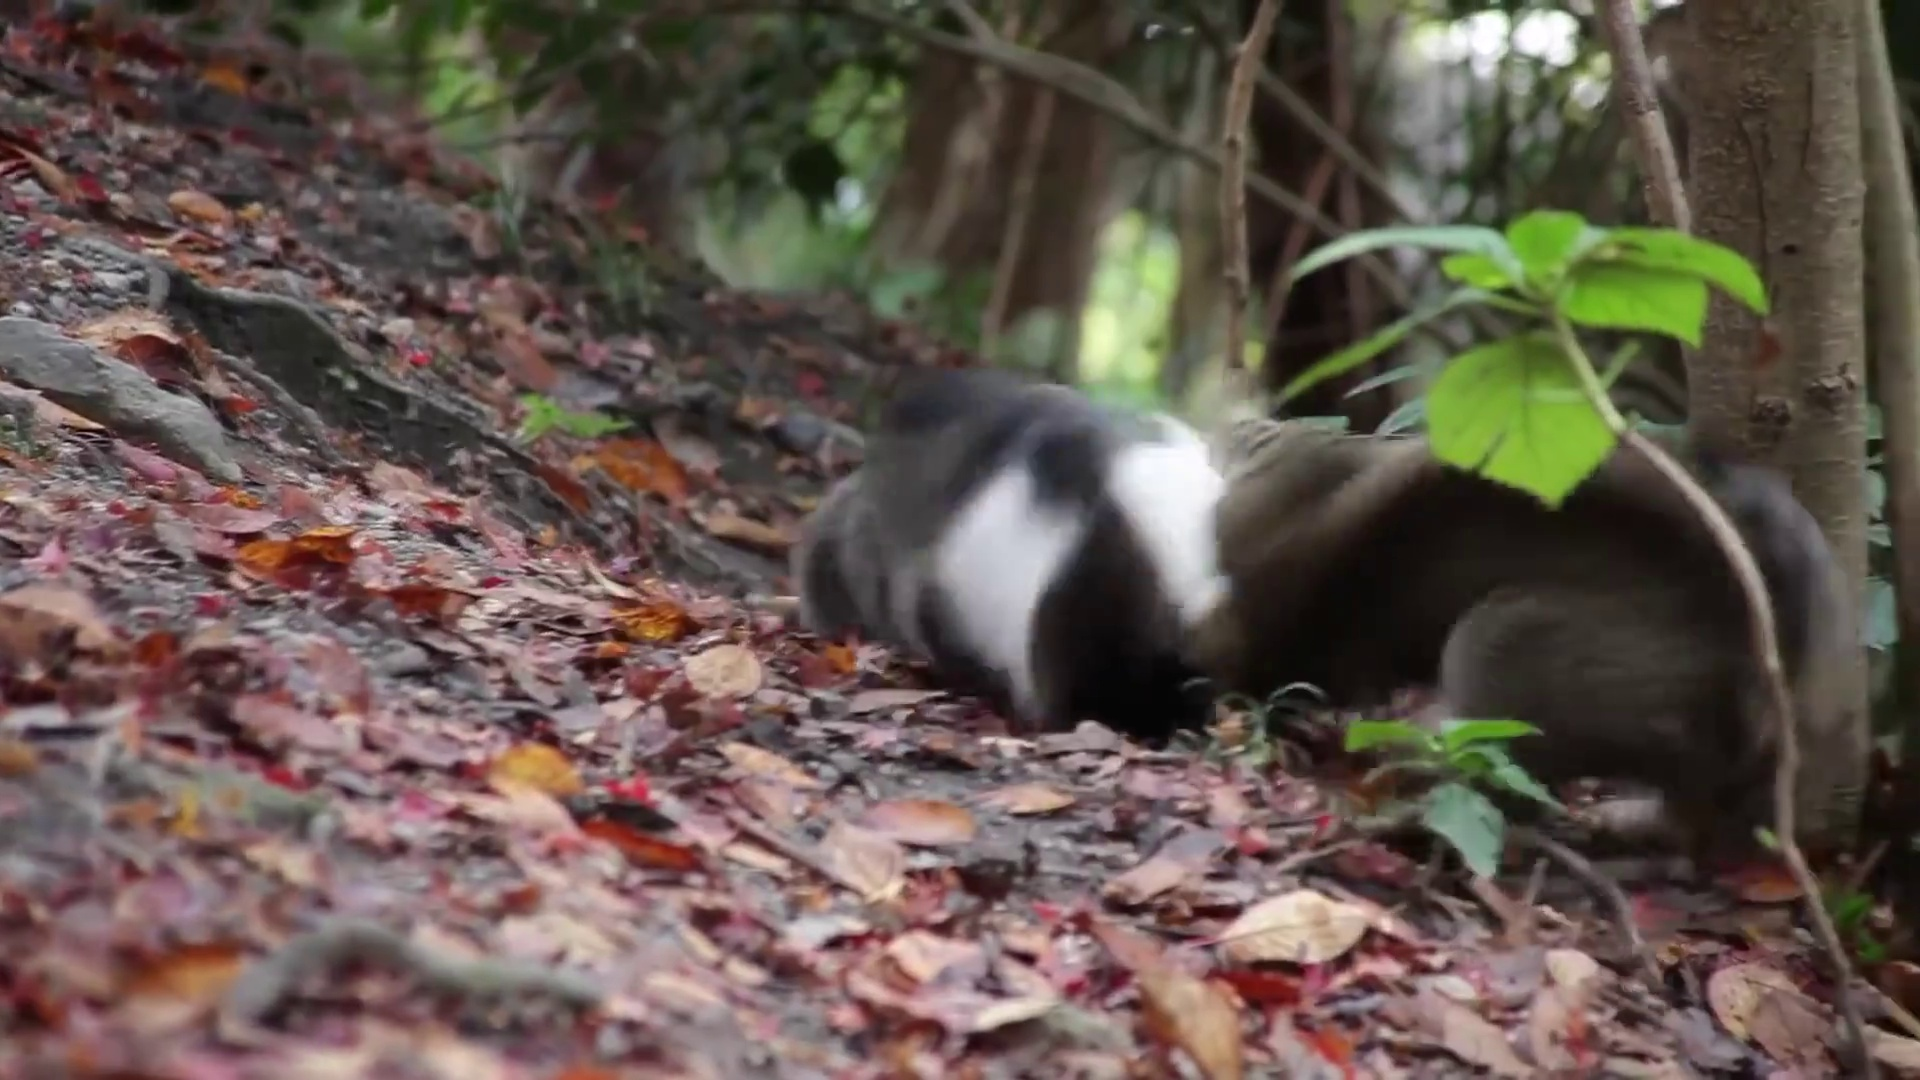black-white: (789, 372, 1228, 731)
pure black: (1021, 440, 1495, 709)
